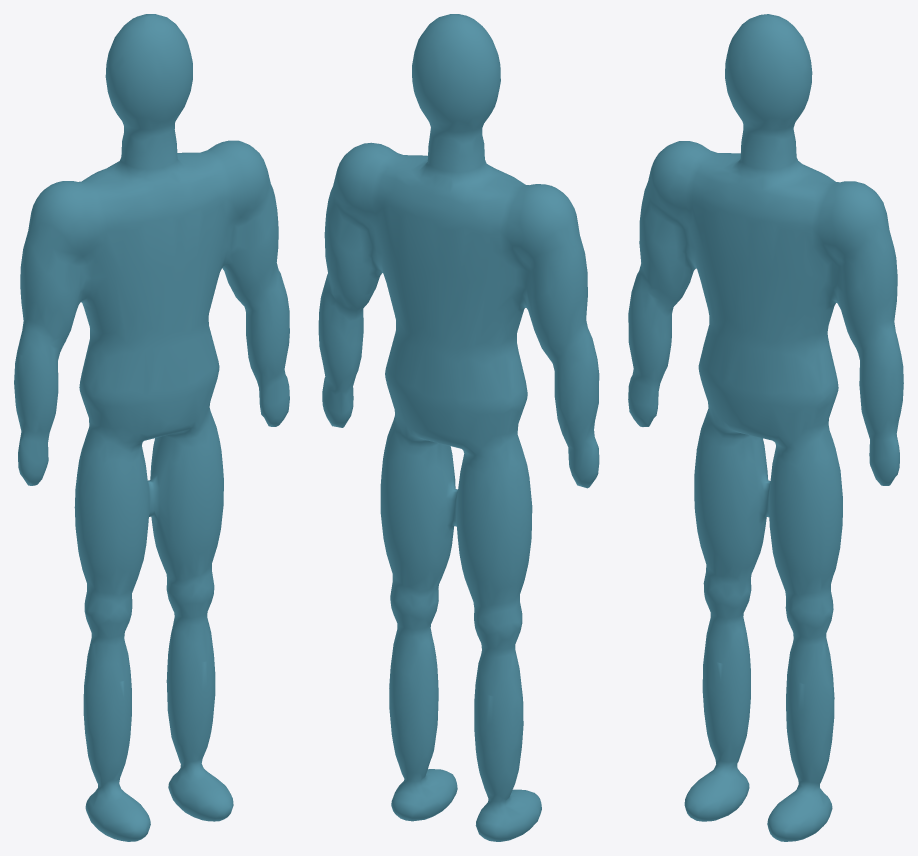
Rendered from ZH_PROP_ANOMALY_GhostSilhouette.fbx.
3 views of the same model, side by side, from view 1: azimuth 30°, elevation 25°; view 2: azimuth 150°, elevation 25°; view 3: azimuth 330°, elevation 25° (orthographic).
Visible parts, largest first — view 1: Ghost | continuous body.001; view 2: Ghost | continuous body.001; view 3: Ghost | continuous body.001.
Boxes of the visible parts, <box> form: Ghost | continuous body.001: <box>14,14,289,841</box>; Ghost | continuous body.001: <box>318,14,599,841</box>; Ghost | continuous body.001: <box>628,14,903,841</box>.
Size of the model in its own units: 0.5962 by 1.69 by 0.2187.
